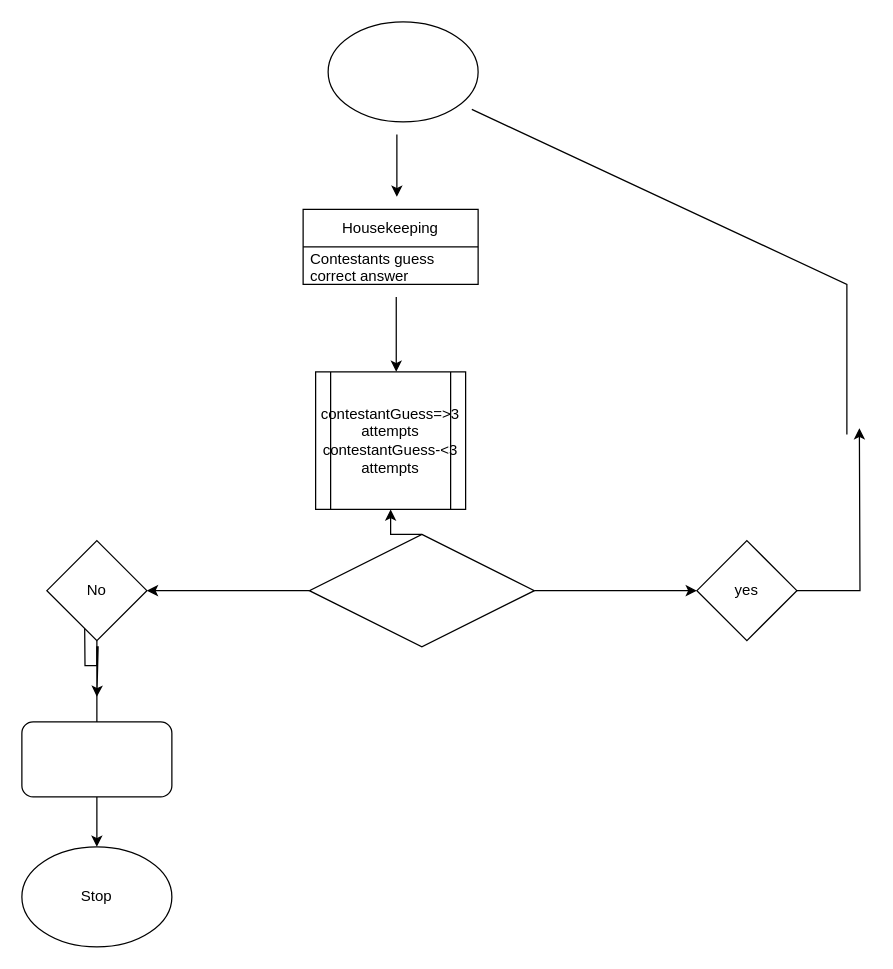
This 893x969 diagram has some shape labels left out. The shapes that lost their labels are listed below. From the top down, each one's centre as x and y in pixels, then its label:
At point 402,71: "Start".
At point 421,590: "isAnswerNotCorrect?".
At point 96,759: "goToNextQuestion".
